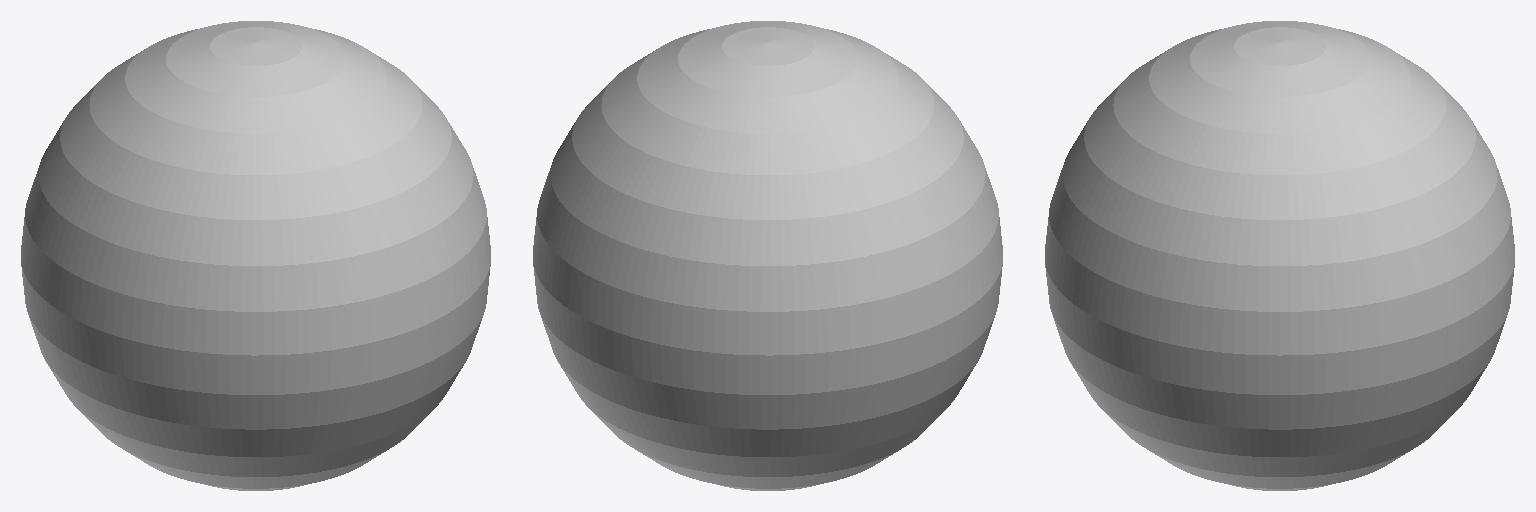
Rendered from inverted_sphere.obj.
The picture shows the model from 3 angles: view 1: azimuth 30°, elevation 25°; view 2: azimuth 150°, elevation 25°; view 3: azimuth 270°, elevation 25°; orthographic projection.
Visible parts, largest first — view 1: Sphere; view 2: Sphere; view 3: Sphere.
Boxes of the visible parts, box(x1,y1,x2,y2) form: Sphere: box(21, 21, 490, 490); Sphere: box(533, 21, 1002, 490); Sphere: box(1045, 21, 1514, 490).
Size of the model in its own units: 2 by 2 by 2.